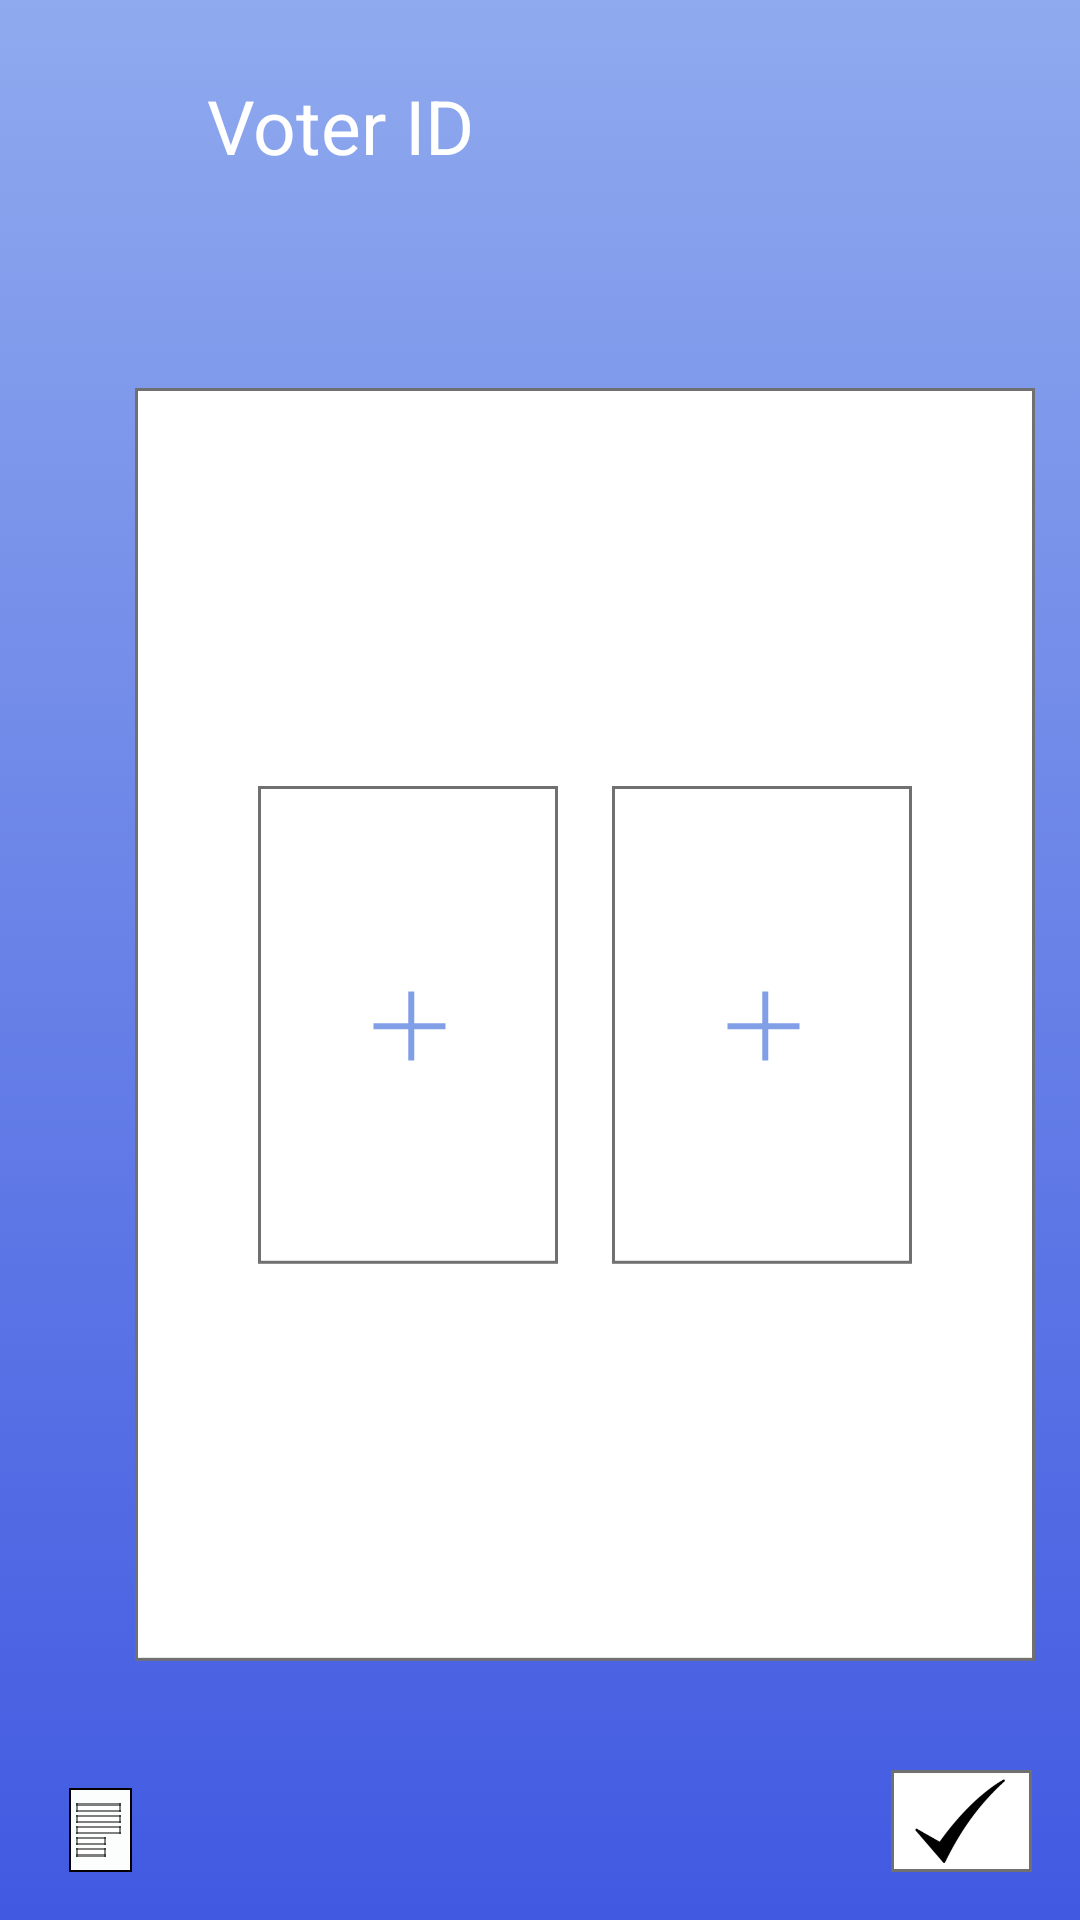

Locate icon controls on the screen. Image size 1080 x 1920, boxes as detection(x1, y1, x2, y2).
docs: detection(69, 1788, 132, 1872)
next: detection(891, 1770, 1032, 1872)
